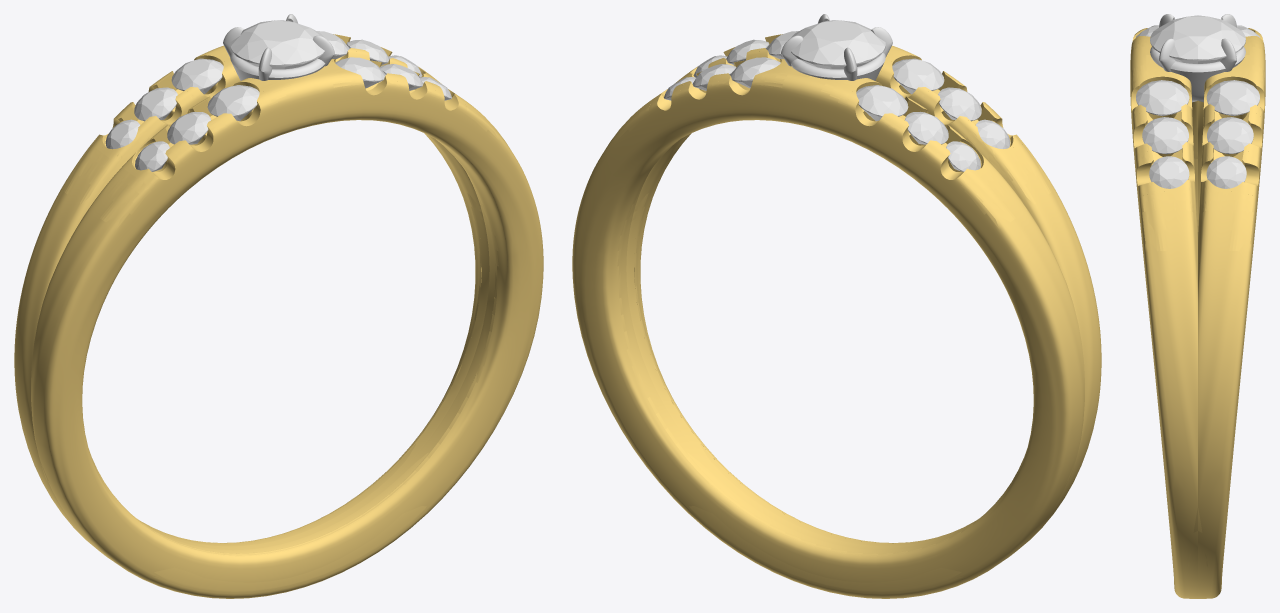
Rendered from StephanieYGdia_blender.glb.
3 views of the same model, side by side, from view 1: azimuth 30°, elevation 25°; view 2: azimuth 150°, elevation 25°; view 3: azimuth 270°, elevation 25° (orthographic).
Parts seen in each view (by area): view 1: Stephanie YG for 3d model, Stephanie dia for 3d model.012, Stephanie PT for 3d model, Stephanie dia for 3d model.002, Stephanie dia for 3d model.011, Stephanie dia for 3d model.001, Stephanie dia for 3d model.010, Stephanie dia for 3d model.008, Stephanie dia for 3d model.009, Stephanie dia for 3d model; view 2: Stephanie YG for 3d model, Stephanie dia for 3d model.012, Stephanie PT for 3d model, Stephanie dia for 3d model.011, Stephanie dia for 3d model.002, Stephanie dia for 3d model.010, Stephanie dia for 3d model.001, Stephanie dia for 3d model.005, Stephanie dia for 3d model, Stephanie dia for 3d model.009; view 3: Stephanie YG for 3d model, Stephanie dia for 3d model.012, Stephanie PT for 3d model, Stephanie dia for 3d model.005, Stephanie dia for 3d model.008, Stephanie dia for 3d model.004, Stephanie dia for 3d model.007, Stephanie dia for 3d model.003, Stephanie dia for 3d model.006.
Part boxes in pixels (x1,y1,x2,y2): Stephanie YG for 3d model: [14, 34, 543, 598]; Stephanie dia for 3d model.012: [230, 20, 324, 69]; Stephanie PT for 3d model: [223, 14, 334, 80]; Stephanie dia for 3d model.002: [171, 58, 223, 94]; Stephanie dia for 3d model.011: [207, 85, 259, 121]; Stephanie dia for 3d model.001: [134, 87, 177, 121]; Stephanie dia for 3d model.010: [167, 111, 210, 144]; Stephanie dia for 3d model.008: [335, 57, 385, 88]; Stephanie dia for 3d model.009: [135, 141, 169, 171]; Stephanie dia for 3d model: [105, 119, 140, 149]; Stephanie YG for 3d model: [572, 34, 1101, 598]; Stephanie dia for 3d model.012: [791, 20, 885, 69]; Stephanie PT for 3d model: [781, 14, 892, 80]; Stephanie dia for 3d model.011: [892, 58, 944, 94]; Stephanie dia for 3d model.002: [856, 85, 908, 121]; Stephanie dia for 3d model.010: [938, 87, 981, 121]; Stephanie dia for 3d model.001: [905, 111, 948, 144]; Stephanie dia for 3d model.005: [730, 57, 780, 88]; Stephanie dia for 3d model: [946, 141, 980, 171]; Stephanie dia for 3d model.009: [975, 119, 1010, 149]; Stephanie YG for 3d model: [1130, 28, 1265, 598]; Stephanie dia for 3d model.012: [1150, 15, 1245, 63]; Stephanie PT for 3d model: [1150, 14, 1245, 102]; Stephanie dia for 3d model.005: [1206, 80, 1259, 116]; Stephanie dia for 3d model.008: [1136, 80, 1189, 116]; Stephanie dia for 3d model.004: [1207, 117, 1253, 154]; Stephanie dia for 3d model.007: [1142, 117, 1188, 154]; Stephanie dia for 3d model.003: [1206, 156, 1246, 188]; Stephanie dia for 3d model.006: [1149, 156, 1189, 188].
Size of the model in its own units: 21.25 by 22.57 by 5.08.
